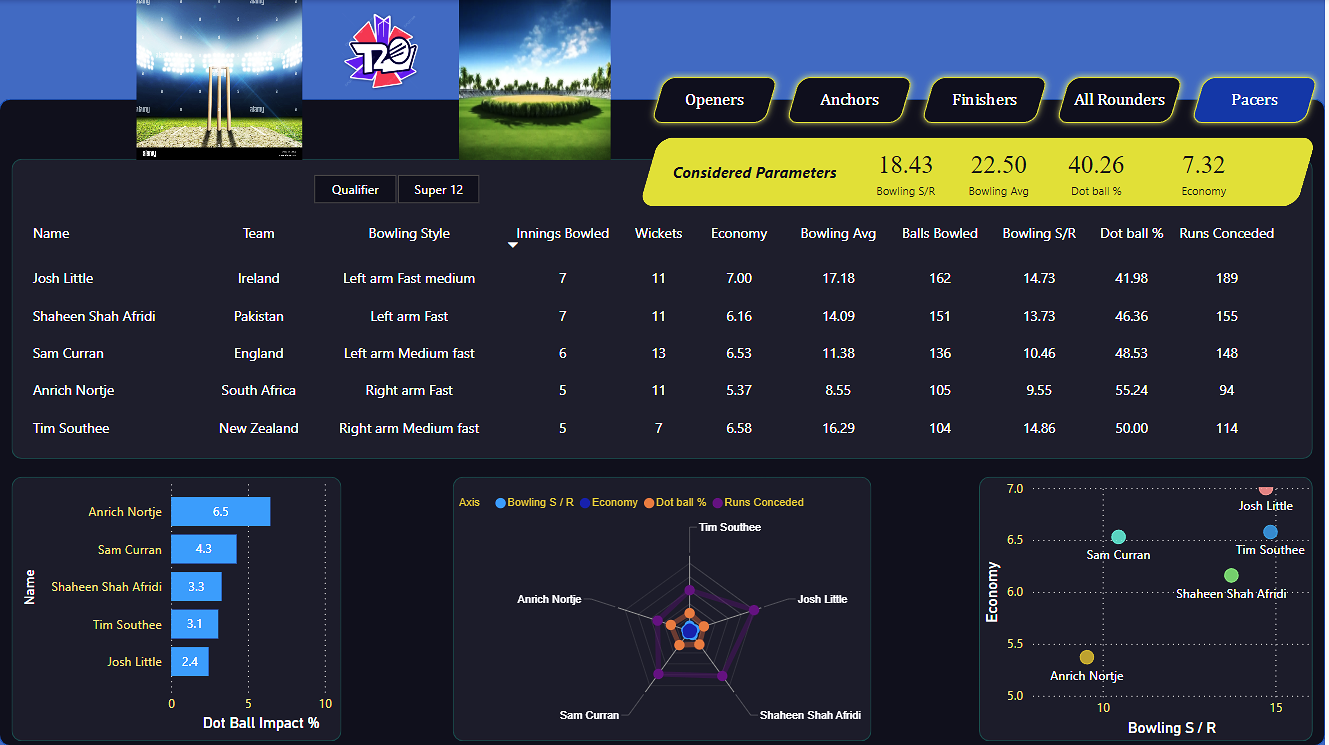

Layout of this report page (visuals, bound fields, positions):
{"tool":"powerbi","page":{"name":"Pacers","canvas":[1280,720],"ordinal":4},"visuals":[{"type":"shape","box":[0,95.1,1280,624.9],"z":0},{"type":"tableEx","fields":{"Values":["list_players.name","list_players.team","list_players.bowlingStyle","Key_Measures.Total Innings Bowled","Key_Measures.wickets","Key_Measures.Economy","Key_Measures.Bowling Average","Key_Measures.balls Bowled","Key_Measures.Bowling Strike Rate","Key_Measures.Dot ball %","Key_Measures.Runs Conceded"]},"box":[26.9,206.7,1226.5,229.9],"z":1000},{"type":"scatterChart","fields":{"Category":["list_players.name"],"X":["Key_Measures.Bowling Strike Rate"],"Y":["Key_Measures.Economy"],"Series":["list_players.name"]},"box":[950.1,462.2,321.6,248.2],"z":2000},{"type":"shape","box":[945.8,456,322.1,259.4],"z":3000},{"type":"shape","box":[12.2,152.9,1255.8,289.8],"z":4000},{"type":"slicer","fields":{"Values":["match_summary.stage"]},"box":[283.7,166.3,199.3,31.8],"z":5000},{"type":"shape","box":[617.7,132.7,653.9,66.4],"z":6000},{"type":"shape","box":[630,153,199.3,25],"z":7000},{"type":"card","fields":{"Values":["Key_Measures.Dot ball %"]},"box":[1010.1,133,98.9,66],"z":8000},{"type":"card","fields":{"Values":["Key_Measures.Bowling Strike Rate"]},"box":[830.3,133,90.5,66],"z":9000},{"type":"card","fields":{"Values":["Key_Measures.Bowling Average"]},"box":[920.8,133,89.3,66],"z":10000},{"type":"card","fields":{"Values":["Key_Measures.Economy"]},"box":[1109,133,108.6,66],"z":11000},{"type":"shape","box":[623,67,136.3,58],"z":12000},{"type":"shape","box":[753,67,136.3,58],"z":13000},{"type":"shape","box":[883,67,136.3,58],"z":14000},{"type":"shape","box":[1013,67,136.3,58],"z":15000},{"type":"shape","box":[1143.7,67,136.3,58],"z":16000},{"type":"image","box":[325,5,87.5,88.8],"z":17000},{"type":"image","box":[132.5,0,160,154],"z":18000},{"type":"image","box":[443.8,0,146.2,154],"z":19000},{"type":"clusteredBarChart","fields":{"Category":["list_players.name"],"Y":["Key_Measures.Dot Ball Impact %"]},"box":[22,457.2,322.1,248.5],"z":19001},{"type":"RadarChart1446119667547","fields":{"Category":["list_players.name"],"Y":["Key_Measures.Bowling Strike Rate","Key_Measures.Economy","Key_Measures.Dot ball %","Key_Measures.Runs Conceded"]},"box":[444,471.7,445.2,248.5],"z":19002},{"type":"shape","box":[437.9,456,404.2,259.4],"z":19003},{"type":"shape","box":[12.1,456,318.5,259.4],"z":19004}]}

Visuals, with their boxes in screenshot pixels (x1, y1, x2, y2), scaled from the page's 1280x720 canvas onto the 1329x745 screenshot:
shape: [0, 98, 1328, 744]
tableEx - list_players.name x list_players.team: [28, 214, 1301, 452]
scatterChart - list_players.name x Key_Measures.Bowling Strike Rate: [986, 478, 1320, 735]
shape: [982, 472, 1316, 740]
shape: [13, 158, 1317, 458]
slicer - match_summary.stage: [295, 172, 501, 205]
shape: [641, 137, 1320, 206]
shape: [654, 158, 861, 184]
card - Key_Measures.Dot ball %: [1049, 138, 1151, 206]
card - Key_Measures.Bowling Strike Rate: [862, 138, 956, 206]
card - Key_Measures.Bowling Average: [956, 138, 1049, 206]
card - Key_Measures.Economy: [1151, 138, 1264, 206]
shape: [647, 69, 788, 129]
shape: [782, 69, 923, 129]
shape: [917, 69, 1058, 129]
shape: [1052, 69, 1193, 129]
shape: [1187, 69, 1328, 129]
image: [337, 5, 428, 97]
image: [138, 0, 304, 159]
image: [461, 0, 613, 159]
clusteredBarChart - list_players.name x Key_Measures.Dot Ball Impact %: [23, 473, 357, 730]
RadarChart1446119667547 - list_players.name x Key_Measures.Bowling Strike Rate: [461, 488, 923, 744]
shape: [455, 472, 874, 740]
shape: [13, 472, 343, 740]
